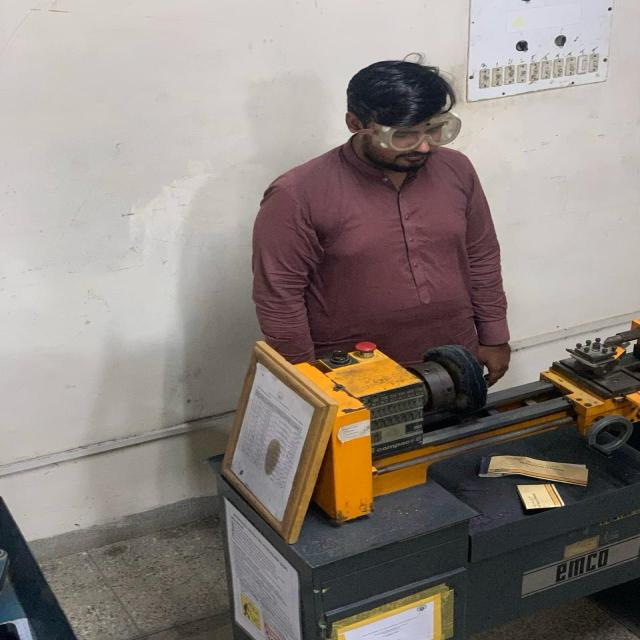googles: (373, 114, 470, 156)
